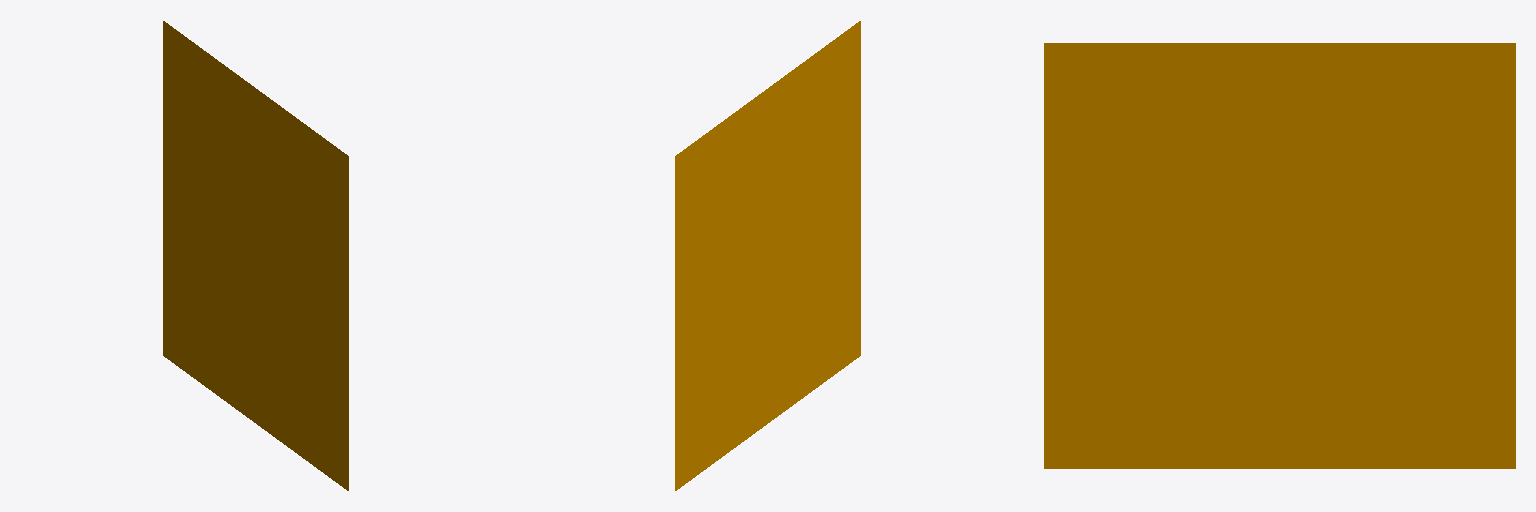
robot.urdf — simple_box:
<robot name="simple_box">
  <link name="my_box">
    <inertial>
      <origin xyz="0 0 0" /> 
      <mass value=".0" />
      <inertia  ixx=".0" ixy=".0"  ixz=".0"  iyy=".0"  iyz=".0"  izz=".0" />
    </inertial>
    <visual>
      <origin xyz="0 0 0"/>
      <geometry>
        <box size="0.001 10 10" />
      </geometry>
    </visual>
    <collision>
      <origin xyz="0 0 0"/>
      <geometry>
        <box size="0.1 10 10" />
      </geometry>
    </collision>
  </link>
</robot>

--- What the picture shows (computed from the rendered views, not written in the file) ---
The picture shows the robot from 3 angles, left to right: view 1: azimuth 30°, elevation 25°; view 2: azimuth 150°, elevation 25°; view 3: azimuth 270°, elevation 25°; orthographic projection.
Model simple_box with 1 links and 0 joints (none), rooted at my_box, posed every joint at zero.
Links seen in each view (by area): view 1: my_box; view 2: my_box; view 3: my_box.
Link boxes in pixels (x1=…): my_box: x1=163, y1=21, x2=348, y2=490; my_box: x1=675, y1=21, x2=860, y2=490; my_box: x1=1044, y1=43, x2=1515, y2=468.
Bounding box of the posed robot: 0.001 × 10 × 10 m (x, y, z).
Geometry: primitives only (box / cylinder / sphere), no mesh files.